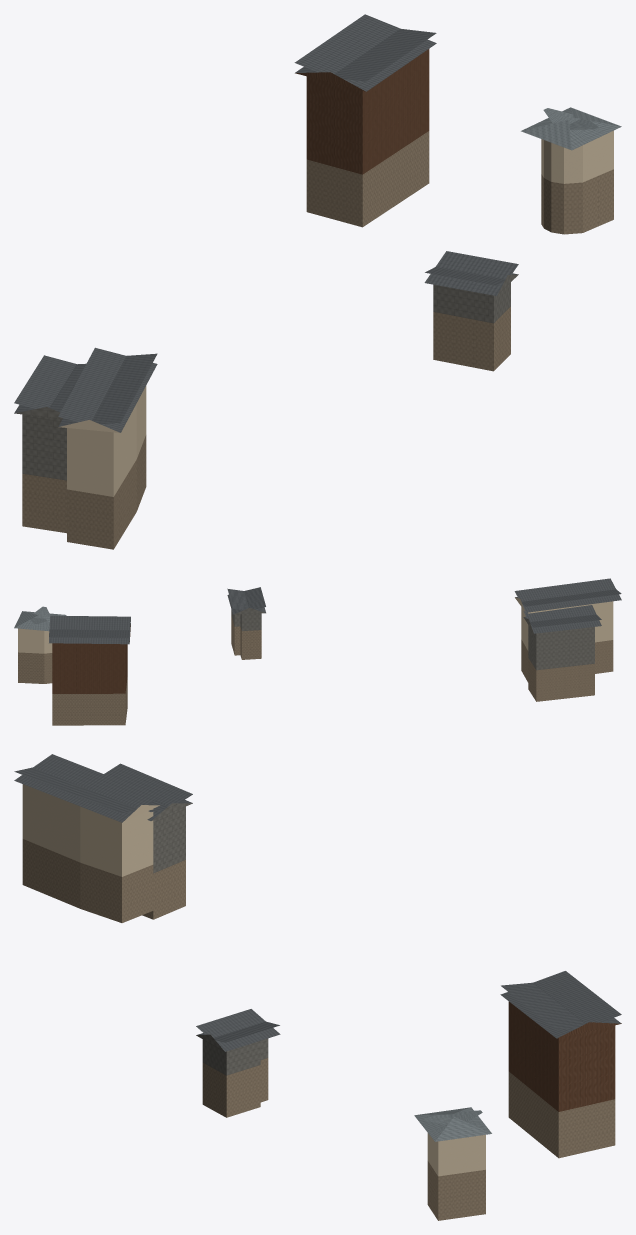
Rendered from bld_c21_31_374.gltf.
3 renders of one model, top to bottom at view 1: azimuth 30°, elevation 25°; view 2: azimuth 150°, elevation 25°; view 3: azimuth 270°, elevation 25°, orthographic. The views are drawn at different scales.
Visible parts, largest first — view 1: bld_c21_31_374; view 2: bld_c21_31_374; view 3: bld_c21_31_374.
Part boxes in pixels (left/top/right/bottom): bld_c21_31_374: left=14, top=14, right=621, bottom=549; bld_c21_31_374: left=14, top=578, right=621, bottom=725; bld_c21_31_374: left=14, top=754, right=621, bottom=1220.
Size of the model in its own units: 79.78 by 15.9 by 60.72.
Materials: 9 (9 with a texture image).
